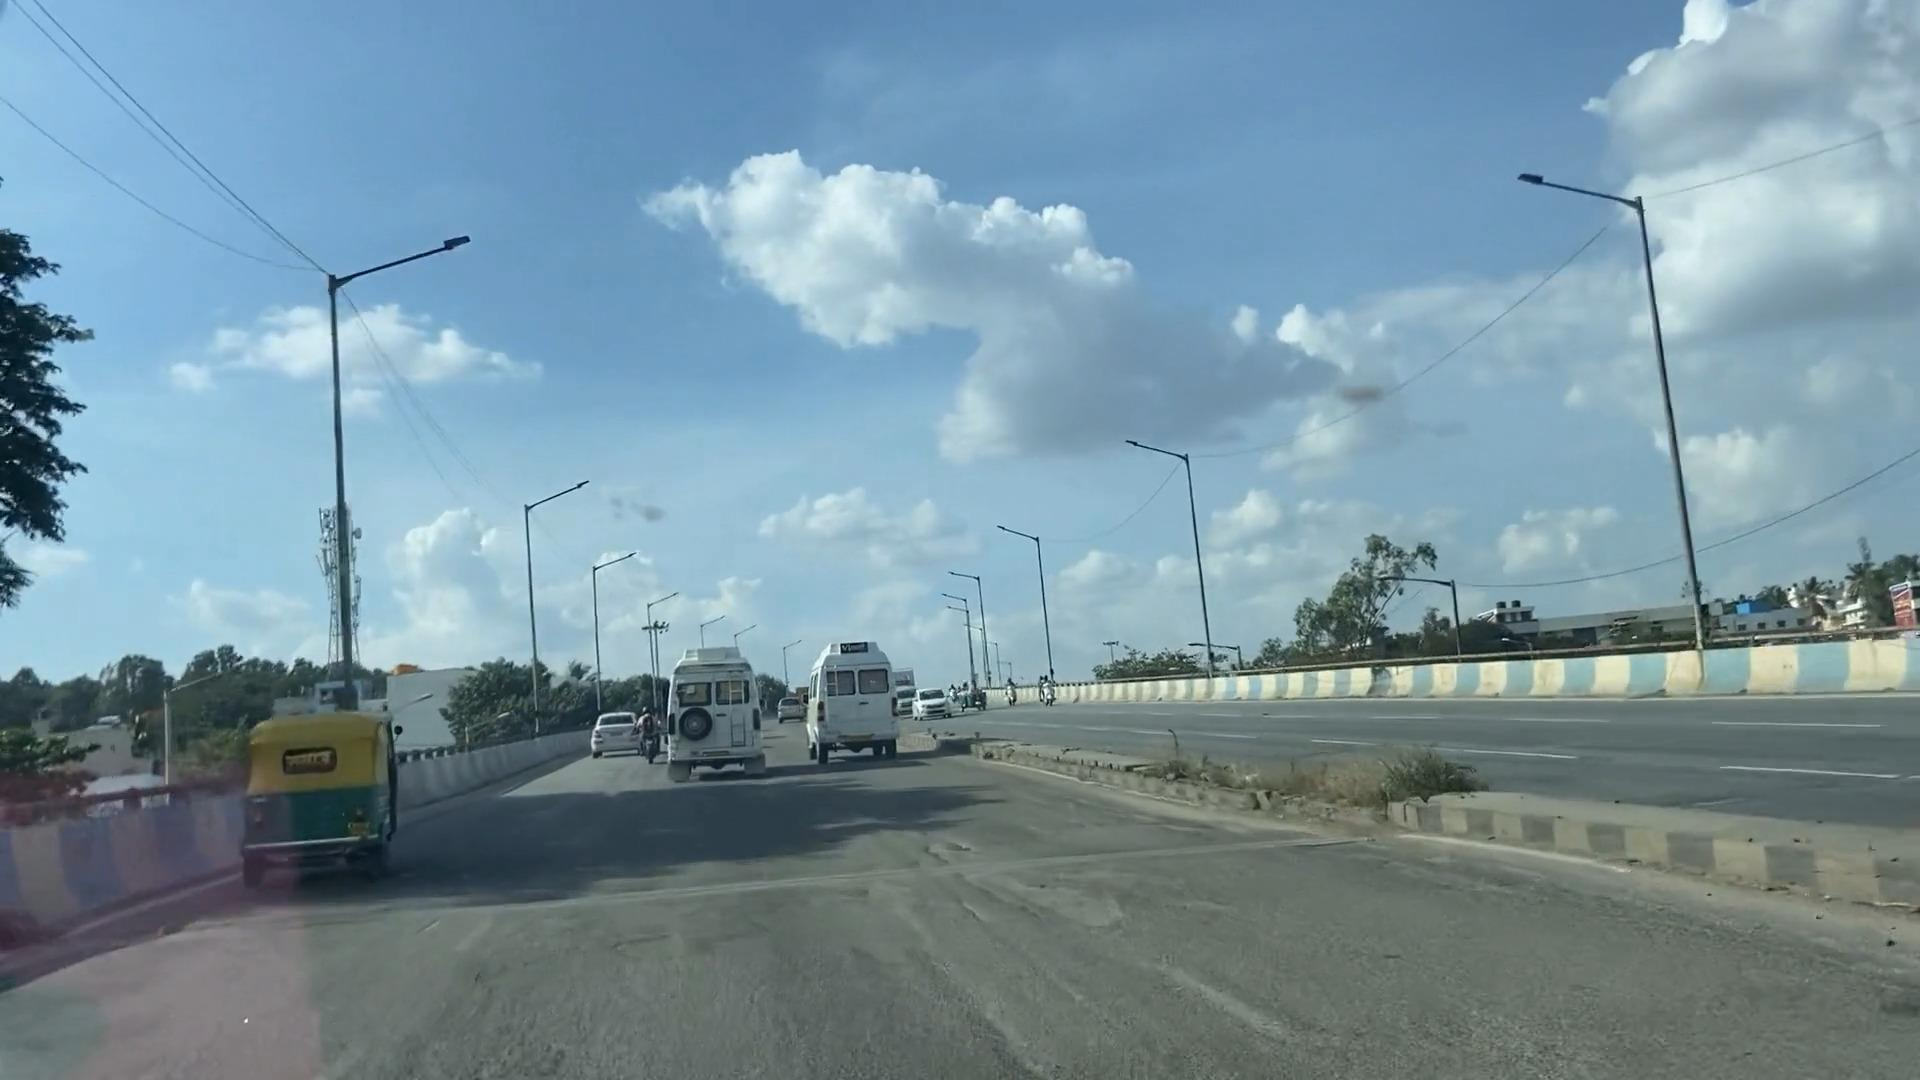HMV: (670, 646, 785, 793), (804, 641, 910, 765)
LMV: (265, 699, 400, 855)
RoadDamages: (703, 823, 1291, 1080)
